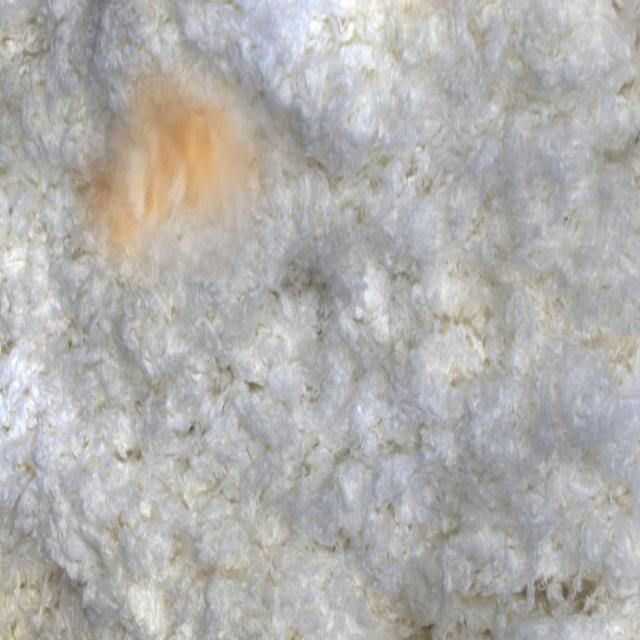dust: (69, 33, 294, 282)
